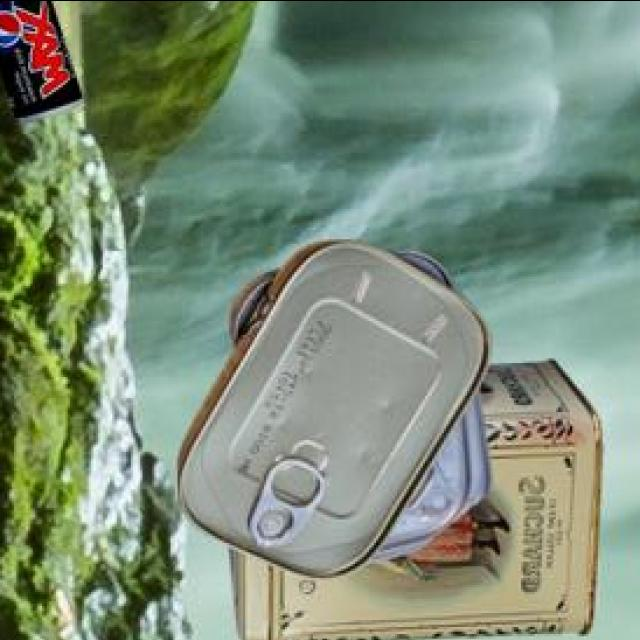logam: (181, 244, 496, 583), (232, 363, 606, 640), (0, 0, 85, 125)
